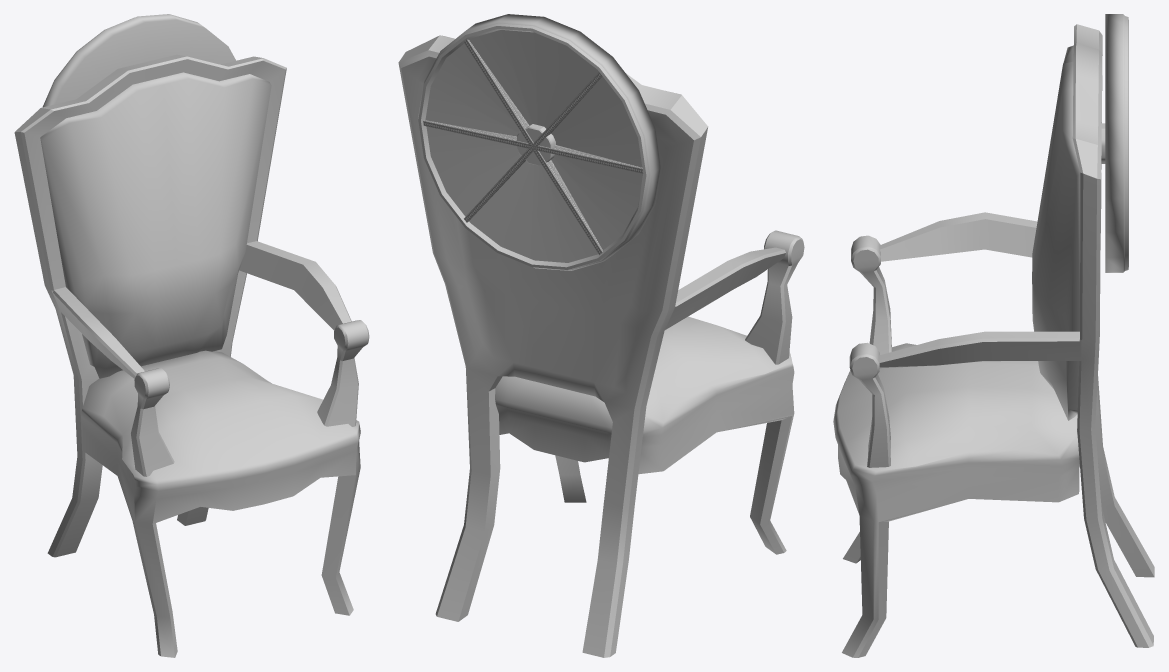
File: Chair_Wheels.fbx
The picture shows the model from 3 angles, left to right: view 1: azimuth 30°, elevation 25°; view 2: azimuth 150°, elevation 25°; view 3: azimuth 270°, elevation 25°; orthographic projection. The views are drawn at different scales.
Parts seen in each view (by area): view 1: Chair_Antique, Wheels; view 2: Chair_Antique, Wheels; view 3: Chair_Antique, Wheels.
Part boxes in pixels (x1,y1,x2,y2): Chair_Antique: [14, 54, 369, 657]; Wheels: [42, 14, 235, 107]; Chair_Antique: [398, 35, 804, 657]; Wheels: [418, 14, 661, 270]; Chair_Antique: [833, 24, 1154, 657]; Wheels: [1101, 14, 1128, 272].
Size of the model in its own units: 106 by 201 by 101.
